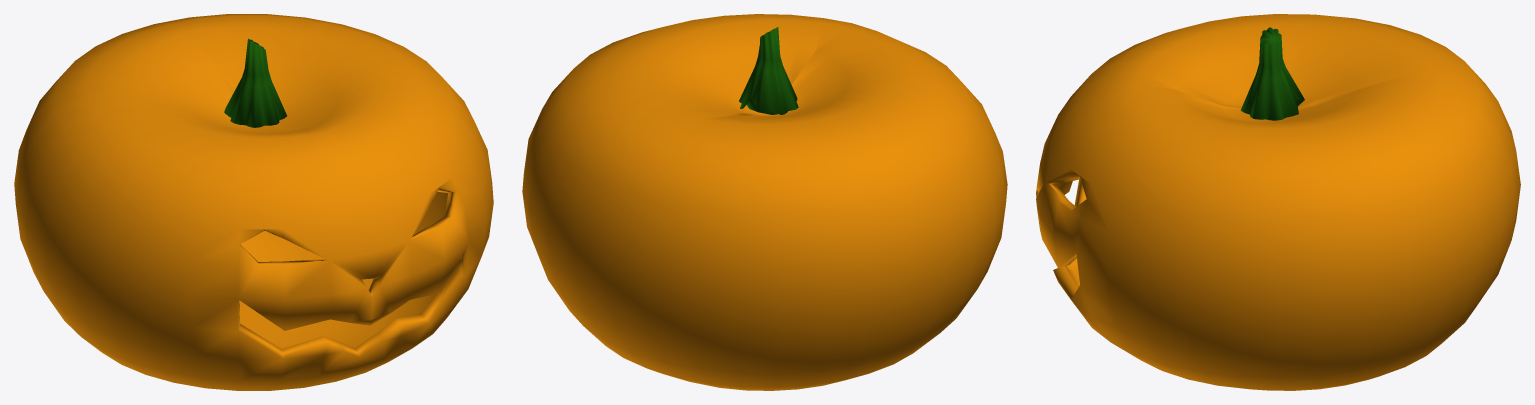
The model's file is Pumpkin.fbx.
3 views of the same model, side by side, from view 1: azimuth 30°, elevation 25°; view 2: azimuth 150°, elevation 25°; view 3: azimuth 270°, elevation 25° (orthographic).
Visible parts, largest first — view 1: Sphere, Cylinder; view 2: Sphere, Cylinder; view 3: Sphere, Cylinder.
Boxes of the visible parts, x1=… form: Sphere: x1=14, y1=14, x2=493, y2=390; Cylinder: x1=224, y1=38, x2=286, y2=127; Sphere: x1=522, y1=14, x2=1007, y2=390; Cylinder: x1=739, y1=27, x2=798, y2=114; Sphere: x1=1036, y1=14, x2=1520, y2=390; Cylinder: x1=1240, y1=27, x2=1304, y2=120.
Bounding box in the file's own units: 200 × 141 × 200.
